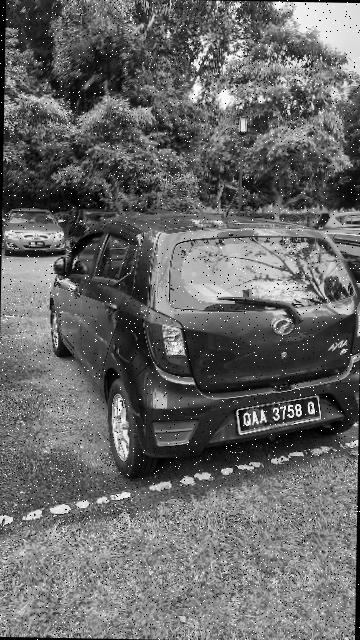License_Plate: (224, 389, 336, 441)
car: (40, 213, 360, 489), (2, 202, 67, 258)
